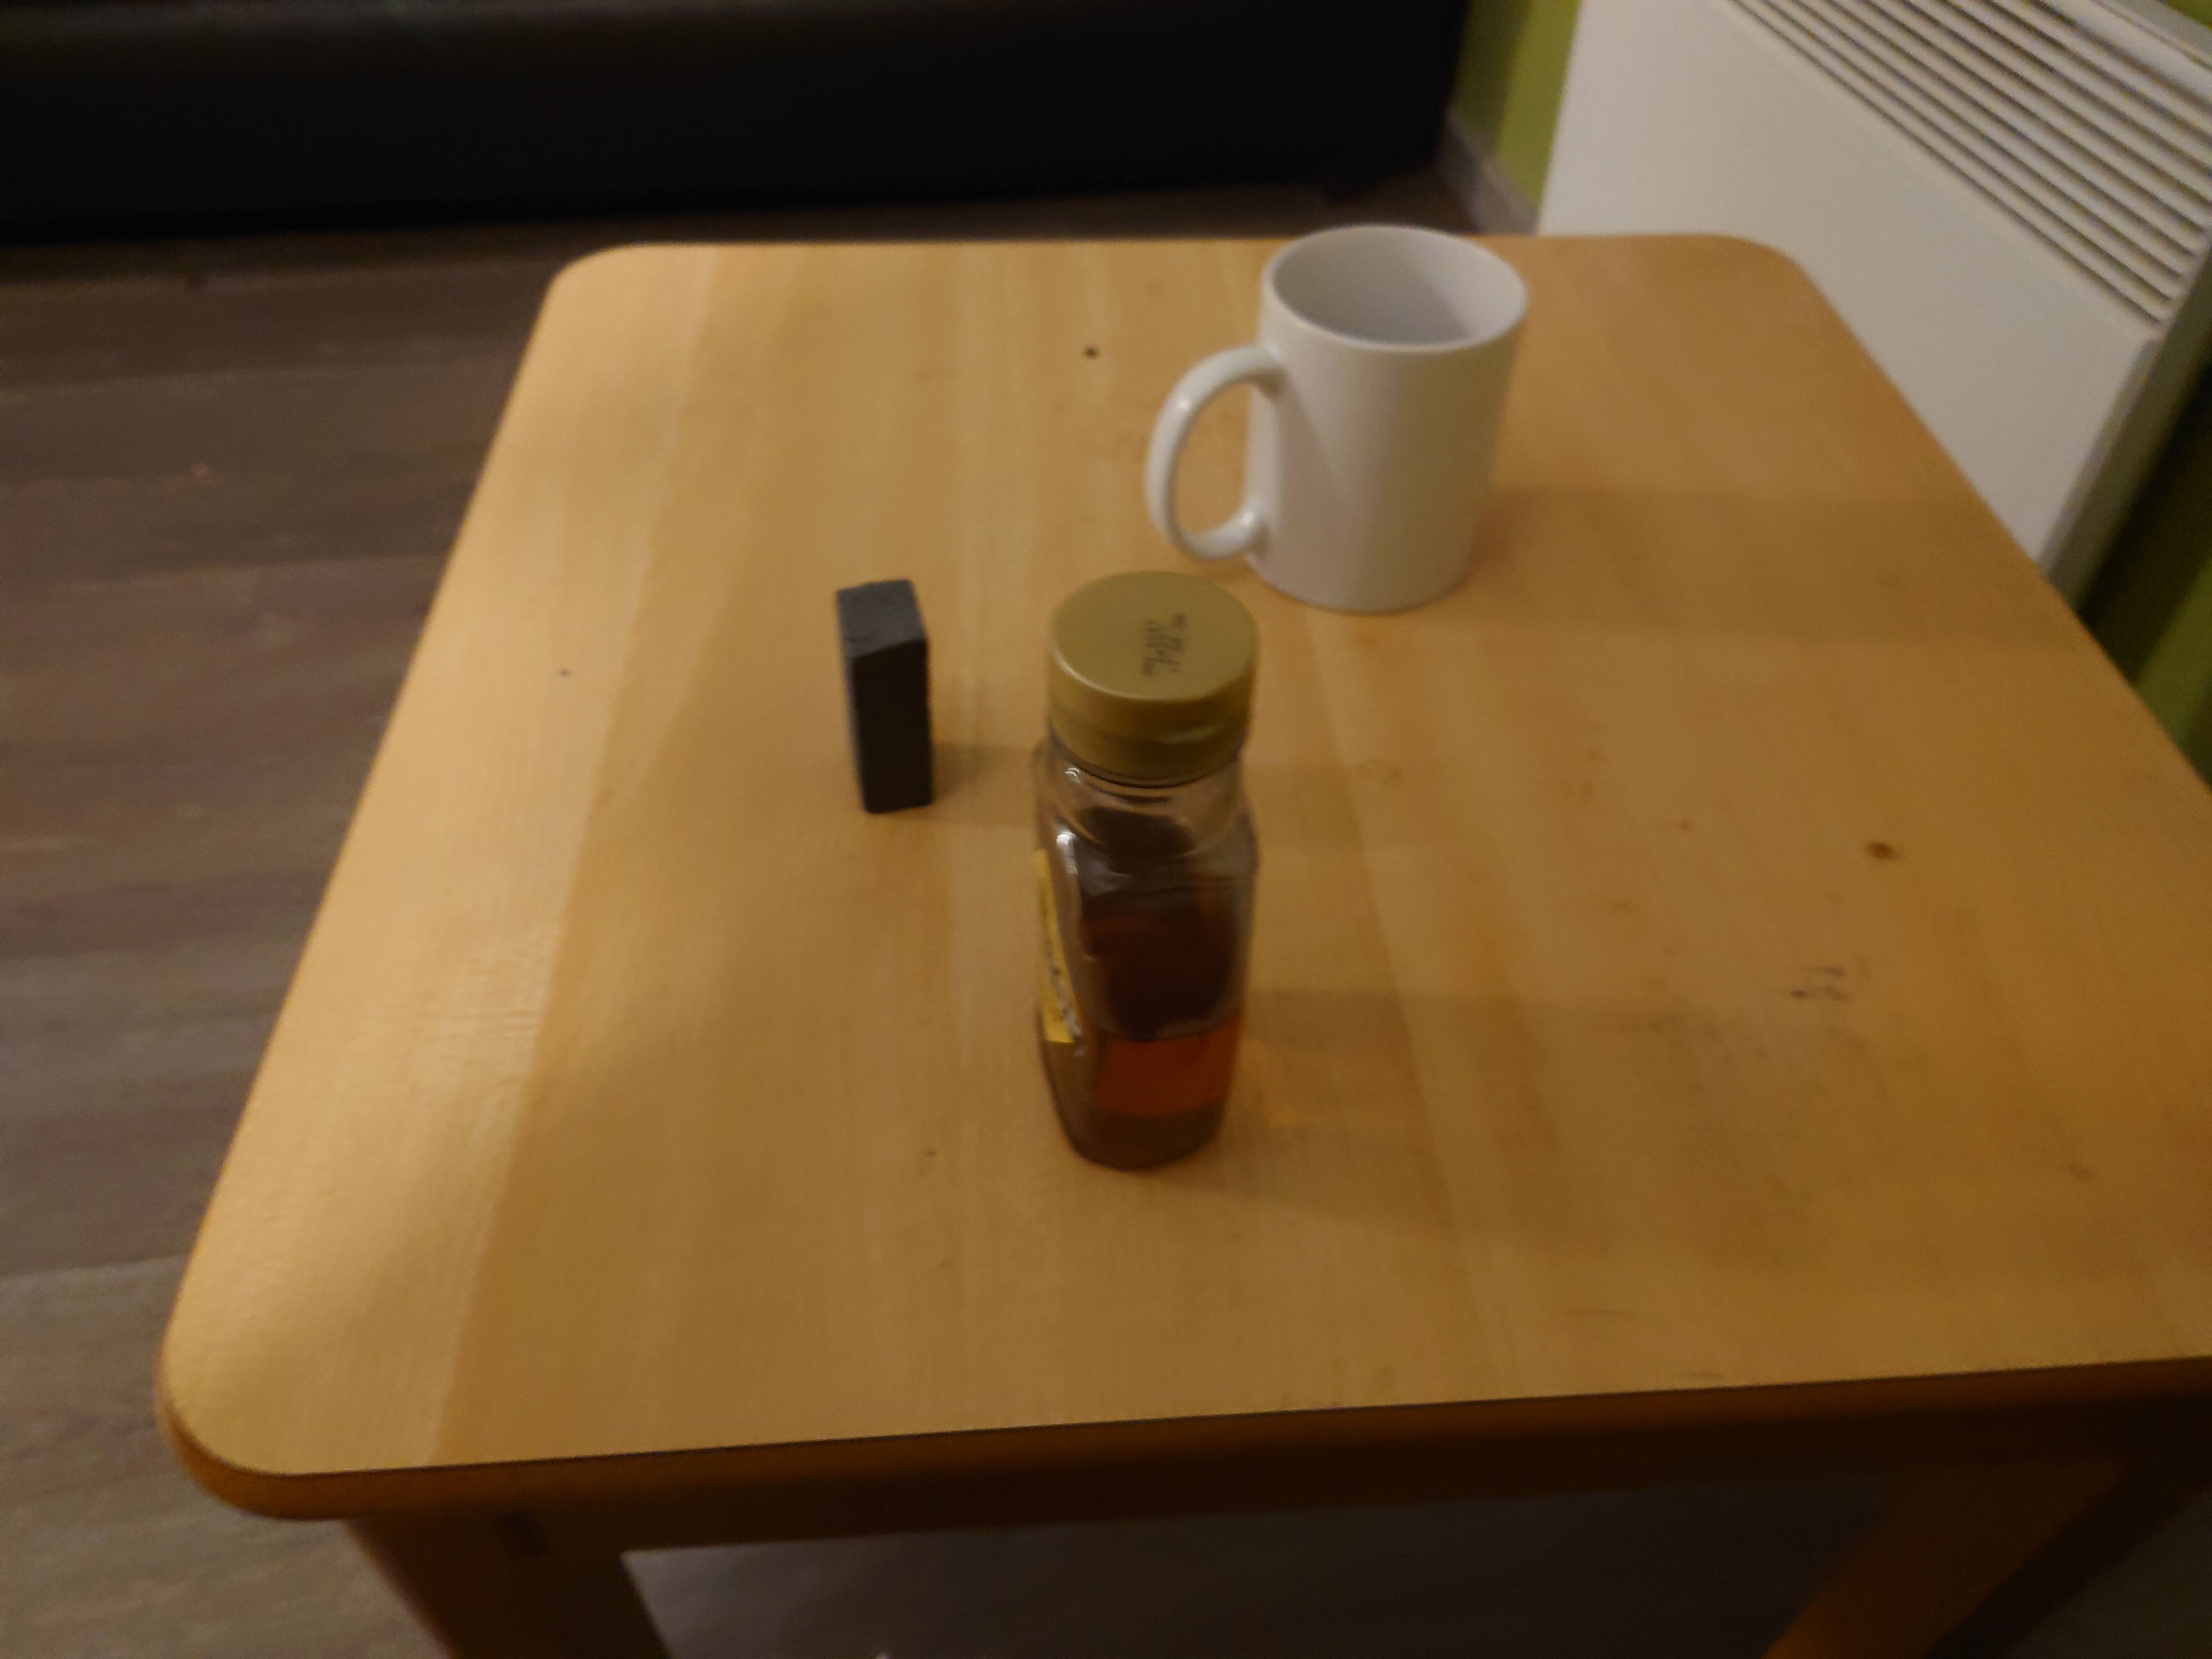cup: (1146, 223, 1531, 610)
target: (834, 575, 935, 812)
